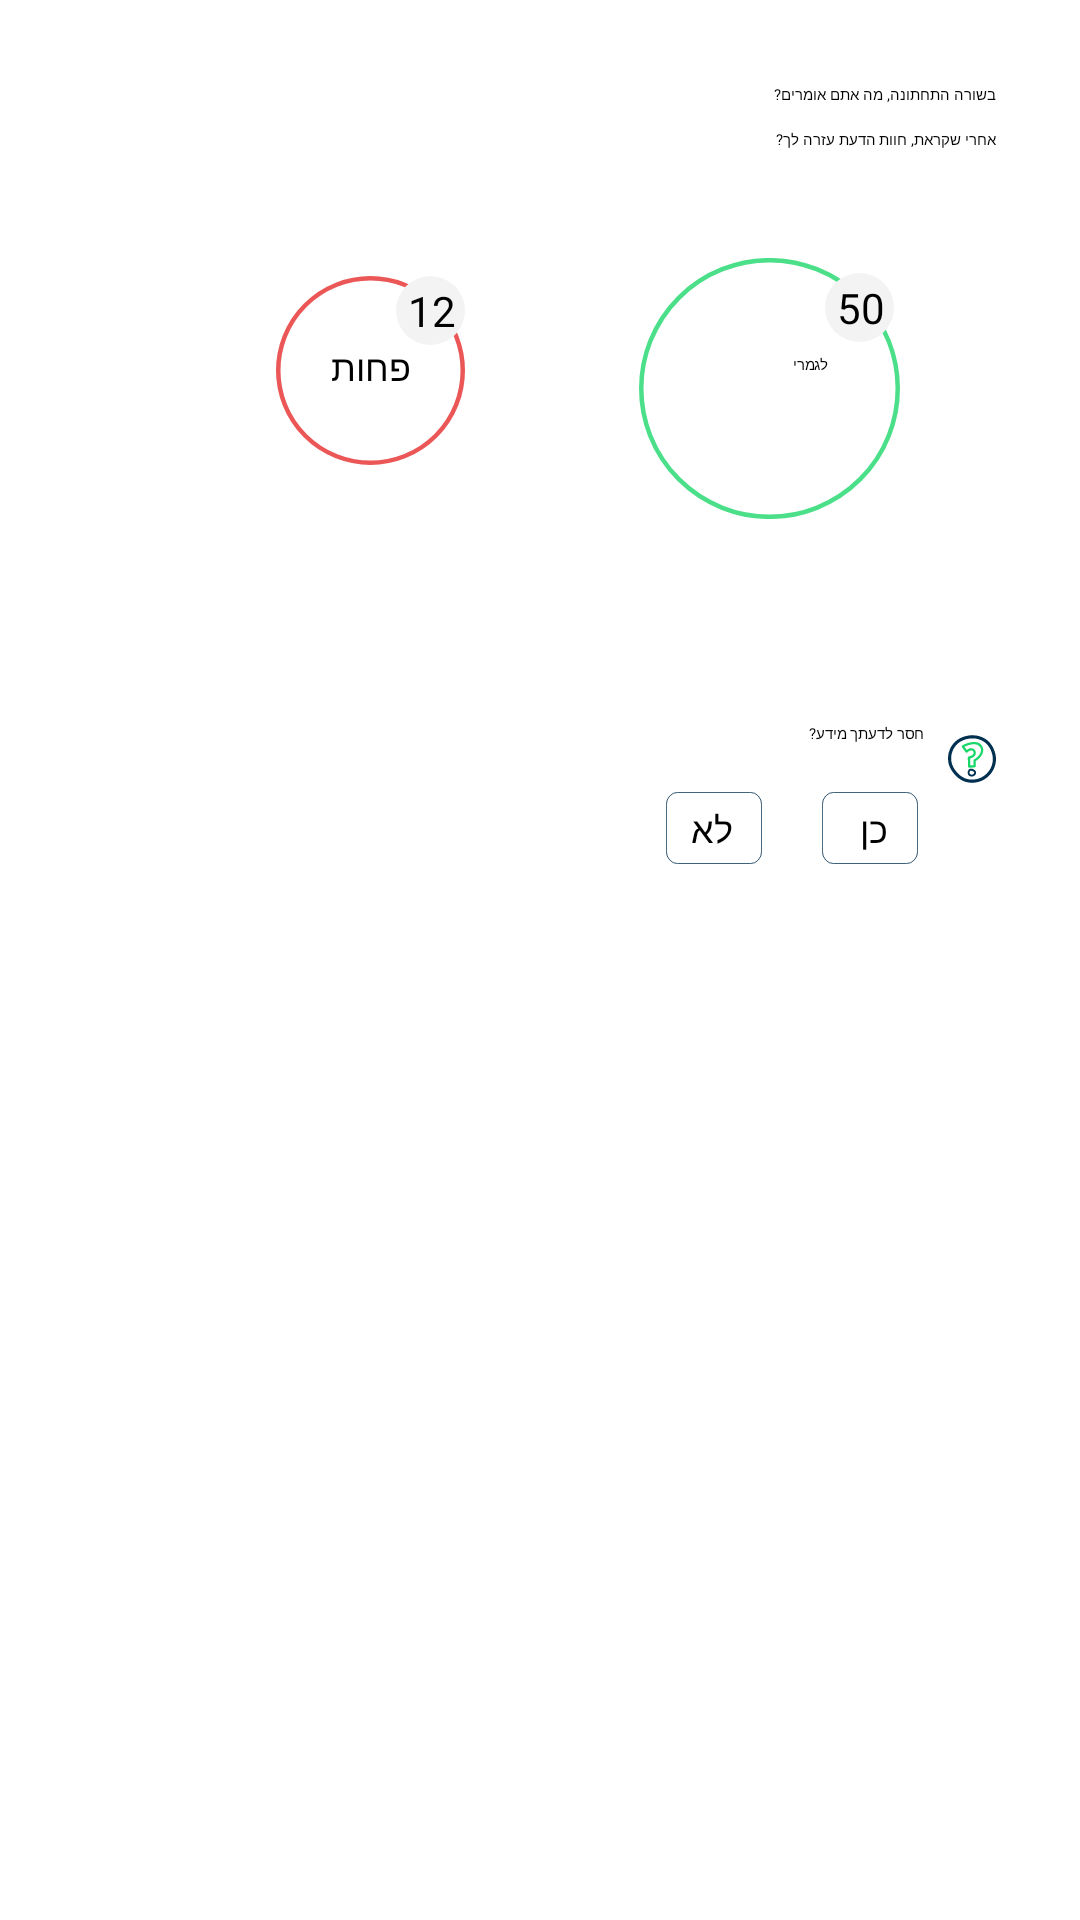

Named icons in this screenshot (1080 x 1920) and their centers, (x,y):
question mark in circle: (972,759)
